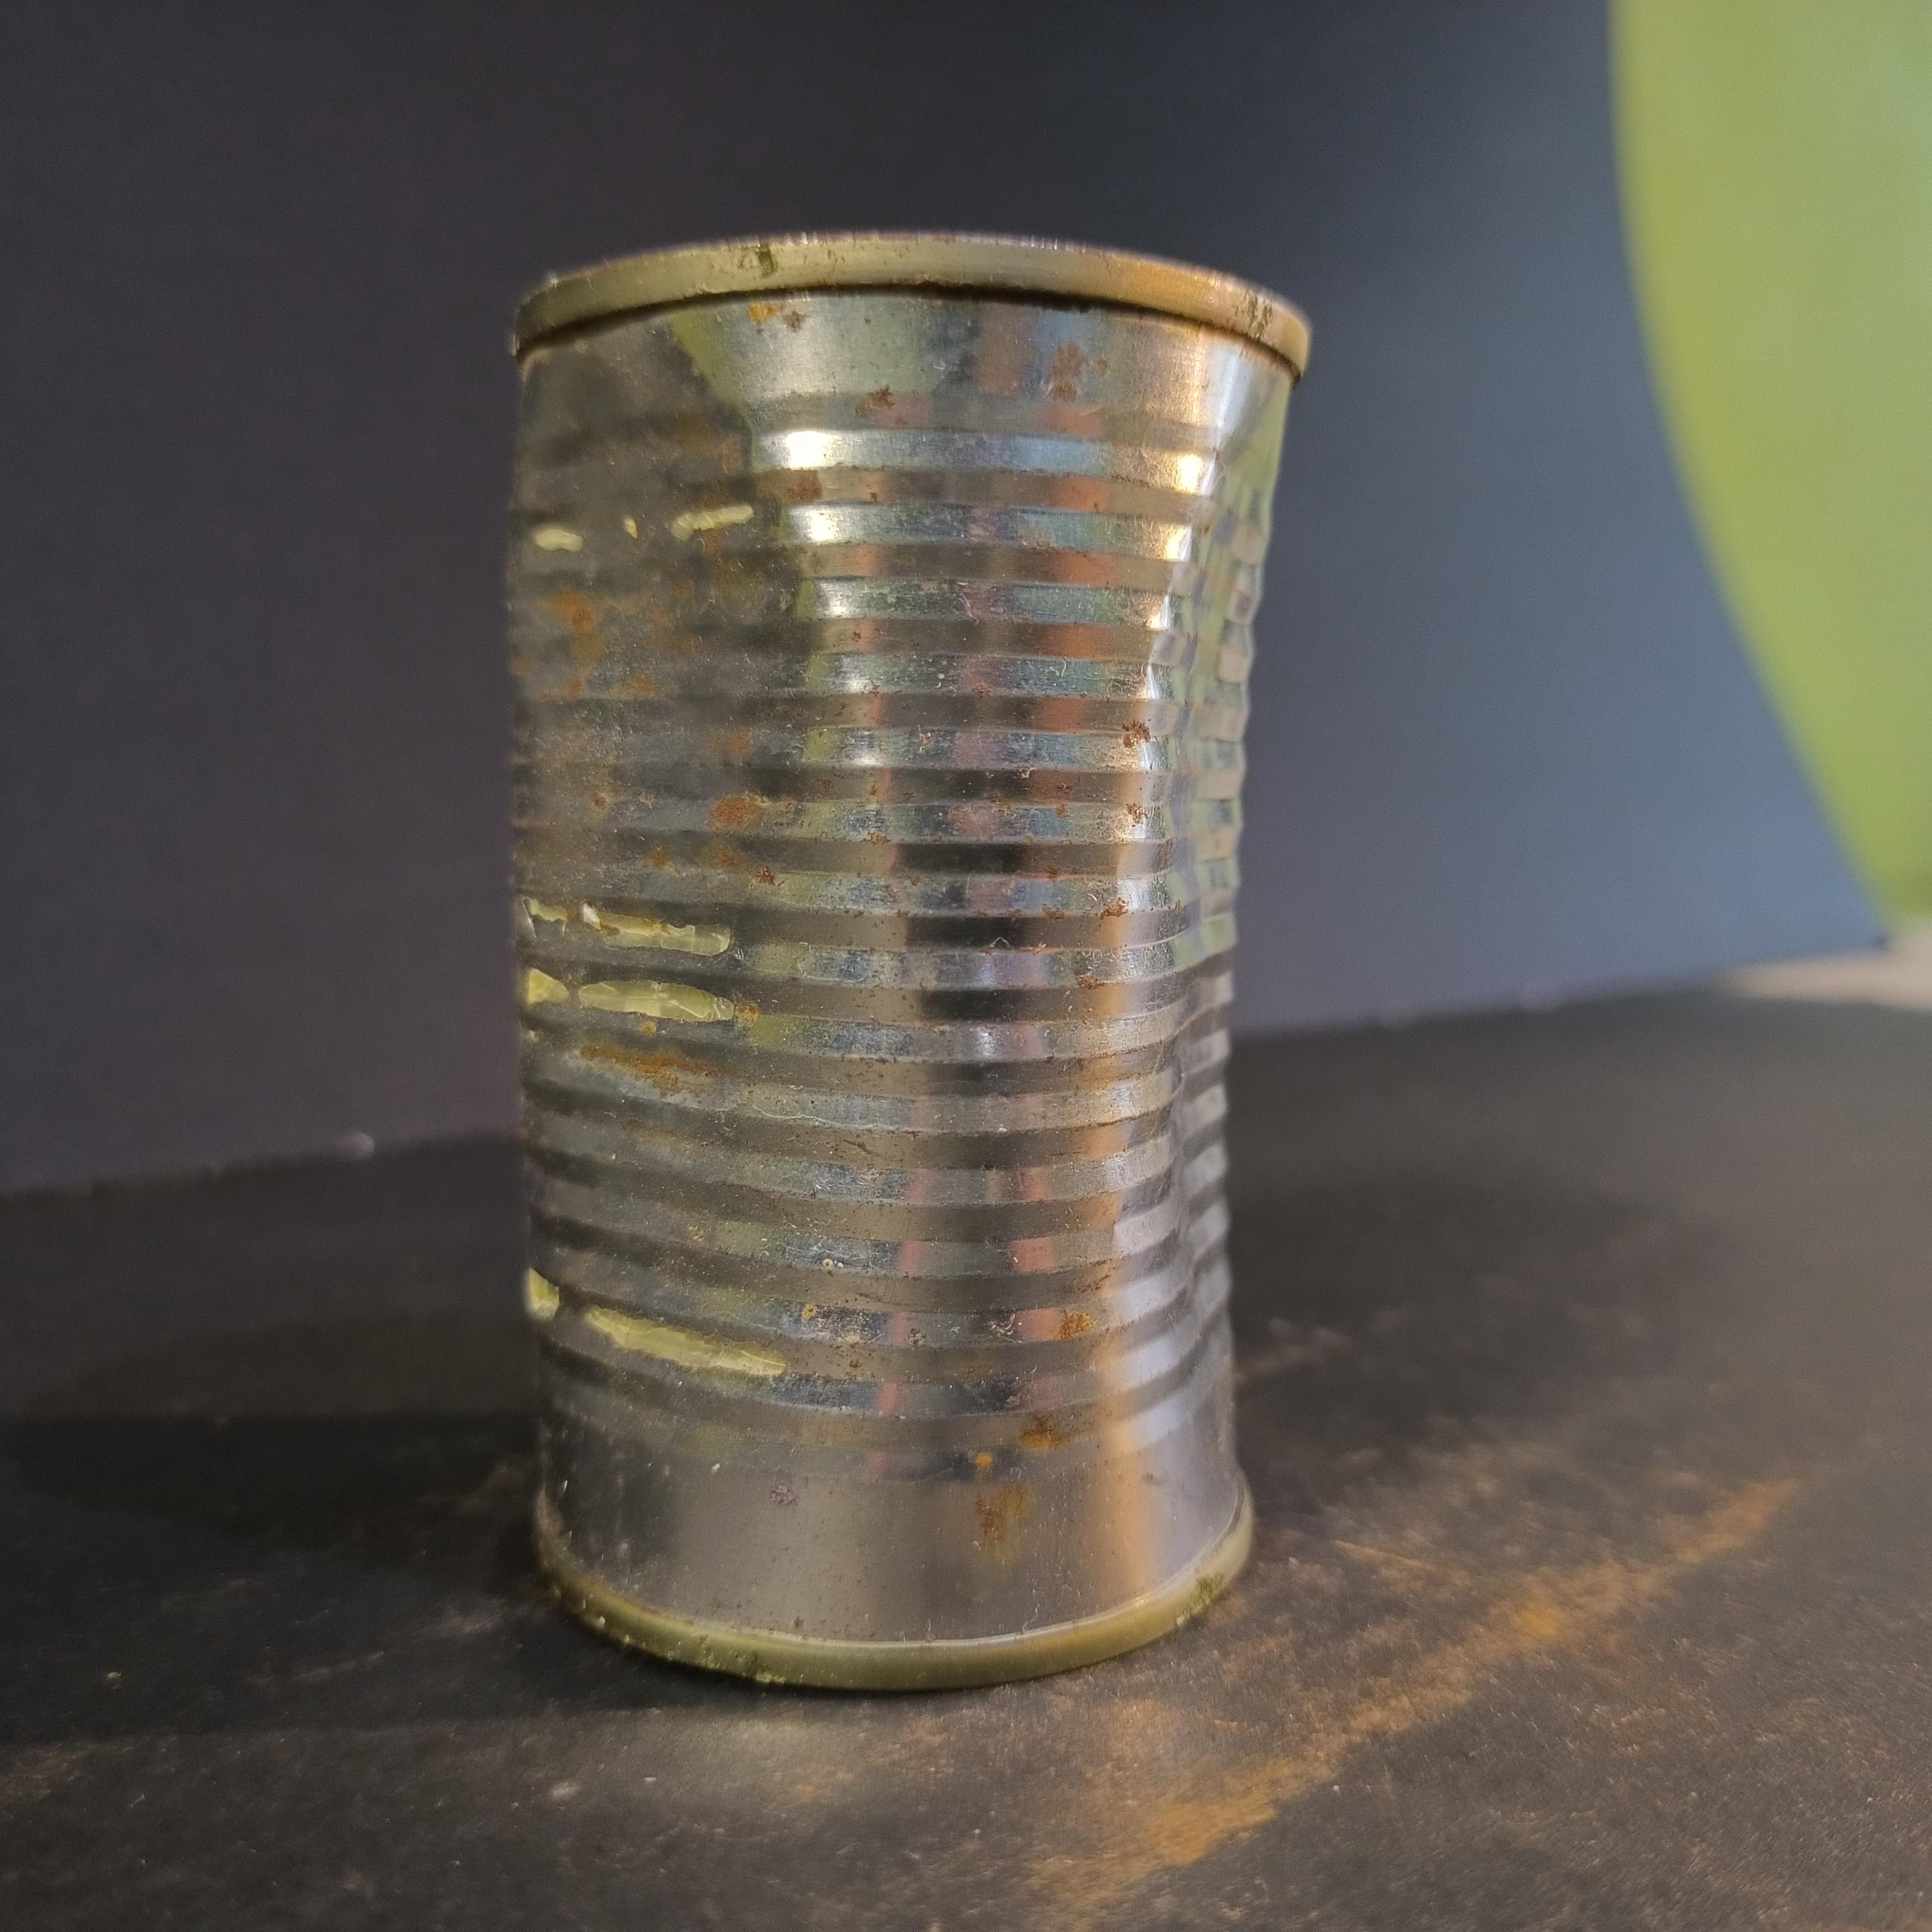Dented: (453, 198, 1292, 1721)
